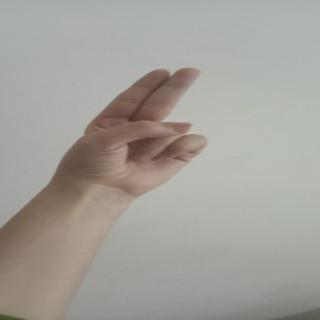TA: (68, 53, 245, 204)
